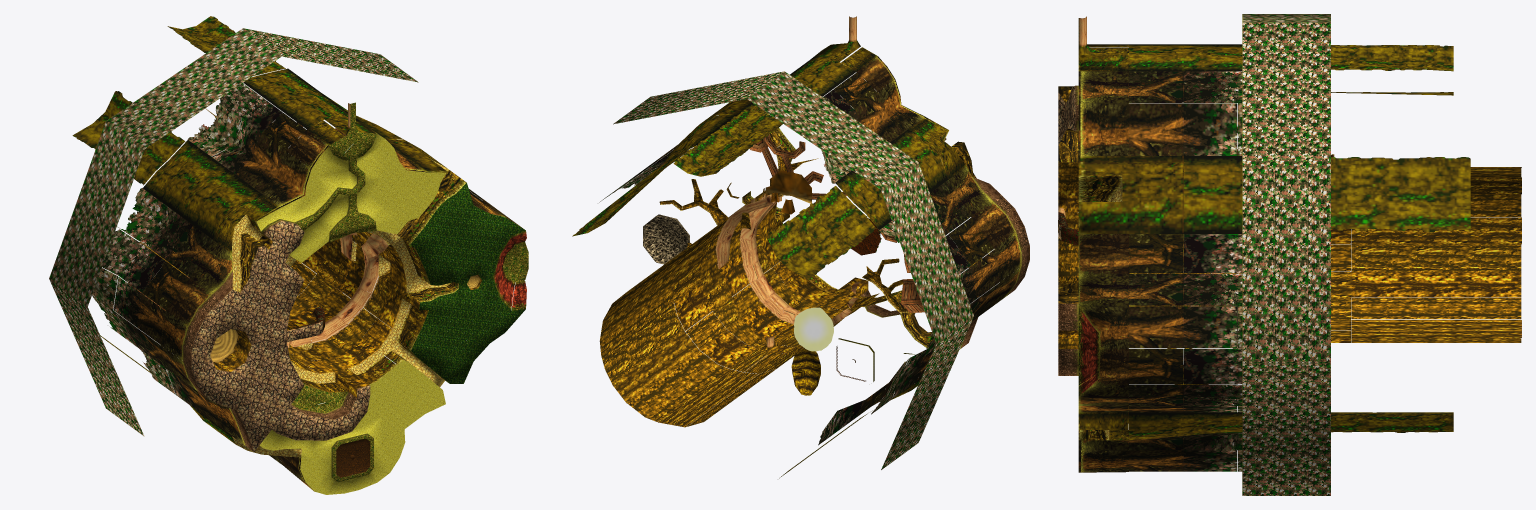
3 views of the same model, side by side, from view 1: azimuth 30°, elevation 25°; view 2: azimuth 150°, elevation 25°; view 3: azimuth 270°, elevation 25° (orthographic). The views are drawn at different scales.
Visible parts, largest first — view 1: Map; view 2: Map; view 3: Map.
Part boxes in pixels (<box>): Map: <box>49,16,528,494</box>; Map: <box>572,16,1029,478</box>; Map: <box>1058,14,1521,495</box>.
Size of the model in its own units: 150 by 153 by 136.
Materials: 1 (1 with a texture image).
